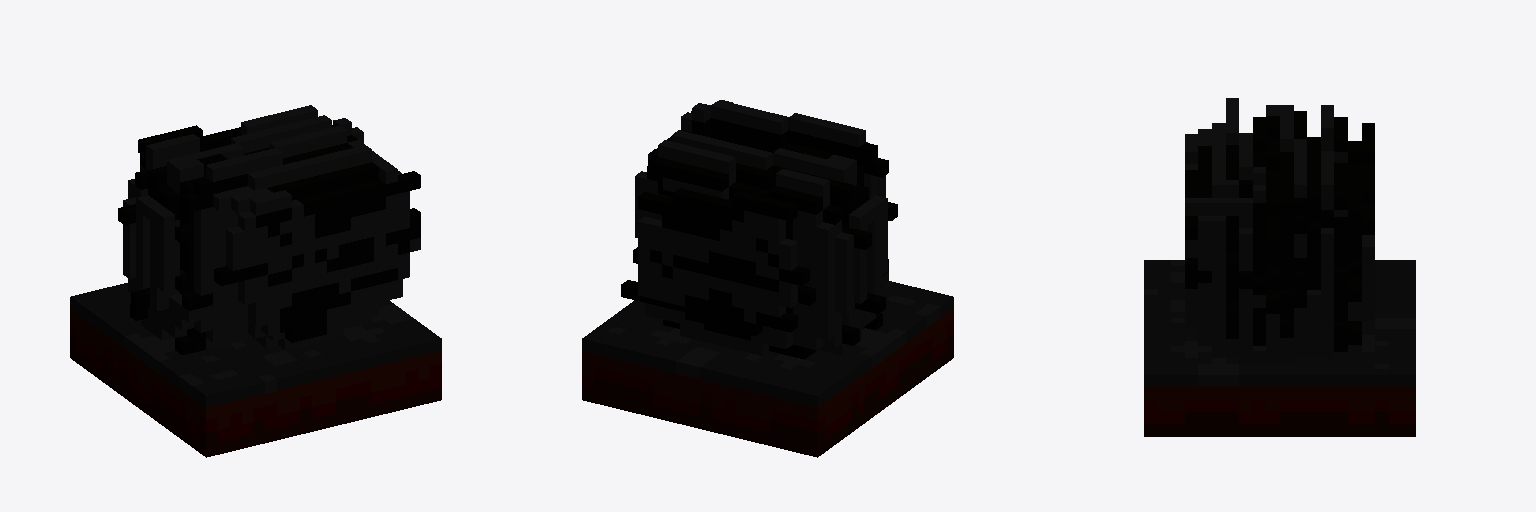
The model's file is coal.obj.
The picture shows the model from 3 angles: view 1: azimuth 30°, elevation 25°; view 2: azimuth 150°, elevation 25°; view 3: azimuth 270°, elevation 25°; orthographic projection.
Visible parts, largest first — view 1: coal; view 2: coal; view 3: coal.
Part boxes in pixels (x1,y1,x2,y2): coal: (70, 105, 441, 457); coal: (582, 100, 953, 457); coal: (1144, 98, 1415, 436).
Size of the model in its own units: 1 by 1 by 1.